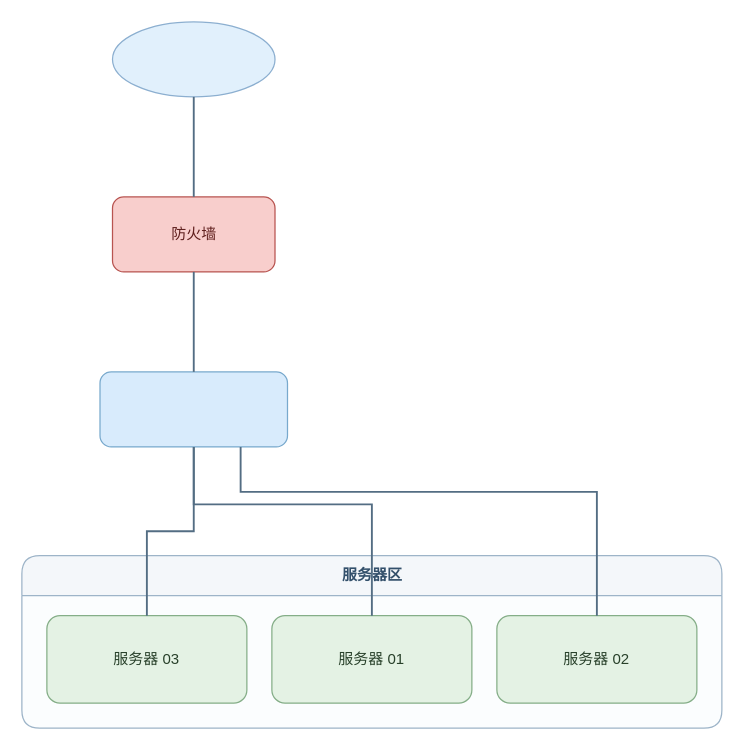
The diagram is 744 pixels wide and 750 high, and some of its shapes have lost their labels. The box of each missing label's shape, as (x1, y1, x2, y2) in pixels:
外部网络: (111, 21, 275, 97)
核心交换机: (99, 371, 288, 447)
